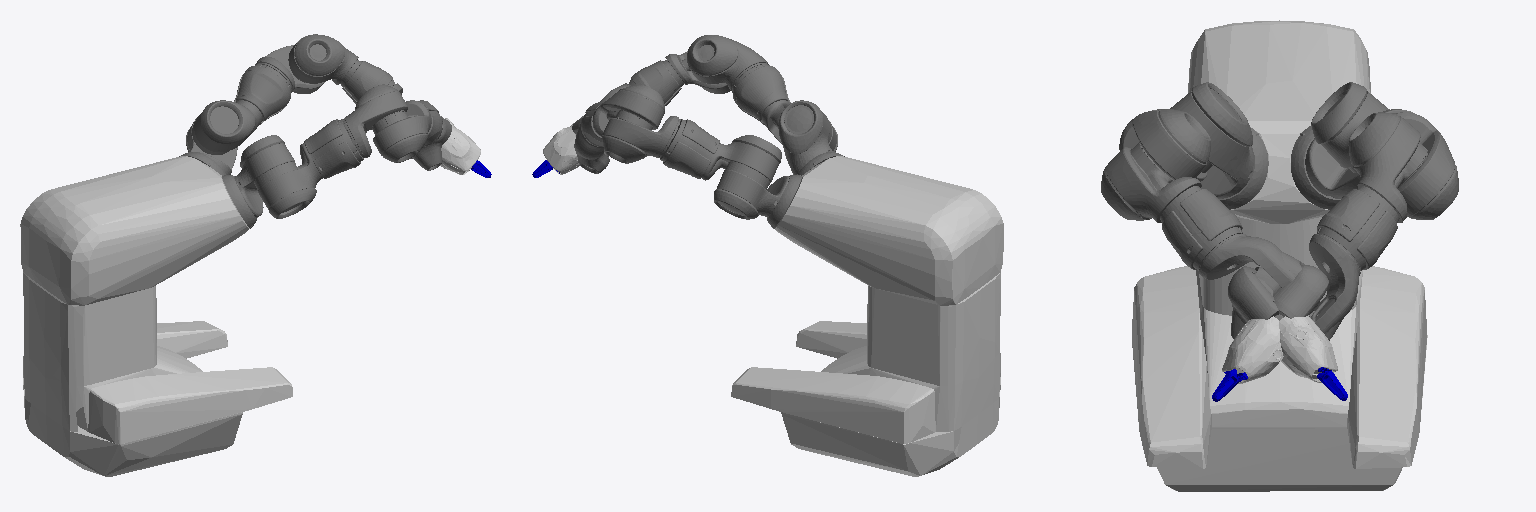
--- Render facts (derived) ---
3 views of the same robot in one strip: view 1: azimuth 30°, elevation 25°; view 2: azimuth 150°, elevation 25°; view 3: azimuth 270°, elevation 25° (orthographic).
Robot: yumi — 25 links, 24 joints (14 revolute, 4 prismatic, 6 fixed); root link yumi_base_link; default pose: all joints at 0.
Visible links, largest first — view 1: yumi_body, yumi_link_2_r, yumi_link_2_l, yumi_link_4_l, yumi_link_4_r, yumi_link_1_r, yumi_link_3_r, gripper_l_base, yumi_link_3_l, yumi_link_1_l, yumi_link_6_r; view 2: yumi_body, yumi_link_2_l, yumi_link_1_l, yumi_link_1_r, yumi_link_2_r, yumi_link_4_l, yumi_link_3_r, yumi_link_3_l, yumi_link_4_r, gripper_r_base, yumi_link_5_l; view 3: yumi_body, yumi_link_4_l, yumi_link_4_r, yumi_link_1_r, yumi_link_3_r, yumi_link_3_l, yumi_link_2_l, yumi_link_5_l, yumi_link_1_l, yumi_link_5_r, gripper_r_base, gripper_l_base (+2 smaller).
Boxes of the visible links, x1,y1,x2,y2 form: yumi_body: [20, 156, 292, 476]; yumi_link_2_r: [254, 119, 363, 218]; yumi_link_2_l: [192, 64, 291, 154]; yumi_link_4_l: [288, 34, 394, 103]; yumi_link_4_r: [372, 100, 442, 162]; yumi_link_1_r: [222, 135, 295, 228]; yumi_link_3_r: [343, 84, 407, 157]; gripper_l_base: [440, 127, 480, 174]; yumi_link_3_l: [255, 45, 325, 93]; yumi_link_1_l: [179, 118, 237, 175]; yumi_link_6_r: [412, 118, 451, 170]; yumi_body: [731, 156, 1003, 476]; yumi_link_2_l: [660, 119, 781, 189]; yumi_link_1_l: [714, 170, 801, 228]; yumi_link_1_r: [778, 100, 844, 175]; yumi_link_2_r: [733, 64, 837, 151]; yumi_link_4_l: [581, 85, 664, 146]; yumi_link_3_r: [687, 35, 768, 92]; yumi_link_3_l: [602, 116, 680, 163]; yumi_link_4_r: [629, 51, 730, 105]; gripper_r_base: [543, 126, 579, 174]; yumi_link_5_l: [574, 124, 609, 173]; yumi_body: [1132, 20, 1427, 491]; yumi_link_4_l: [1317, 112, 1427, 270]; yumi_link_4_r: [1101, 142, 1242, 270]; yumi_link_1_r: [1170, 82, 1268, 209]; yumi_link_3_r: [1119, 109, 1210, 179]; yumi_link_3_l: [1396, 113, 1458, 219]; yumi_link_2_l: [1311, 82, 1414, 172]; yumi_link_5_l: [1309, 234, 1360, 340]; yumi_link_1_l: [1291, 126, 1360, 209]; yumi_link_5_r: [1199, 234, 1304, 287]; gripper_r_base: [1279, 315, 1337, 382]; gripper_l_base: [1222, 316, 1283, 383].
Size in the robot's own frame: 1.01 by 0.4824 by 0.7319 metres.
21 mesh visuals loaded from 10 distinct referenced files (10 binary STL).

The robot description file, URDF, robot "yumi":
<?xml version="1.0" ?>
<!-- =================================================================================== -->
<!-- |    This document was autogenerated by xacro from yumi.urdf.xacro                | -->
<!-- |    EDITING THIS FILE BY HAND IS NOT RECOMMENDED                                 | -->
<!-- =================================================================================== -->
<robot name="yumi" 
  xmlns:xacro="http://www.ros.org/wiki/xacro">
  <material name="Black">
    <color rgba="0.0 0.0 0.0 1.0"/>
  </material>
  <material name="Blue">
    <color rgba="0.0 0.0 0.8 1.0"/>
  </material>
  <material name="Green">
    <color rgba="0.0 0.8 0.0 1.0"/>
  </material>
  <material name="Grey">
    <color rgba="0.5 0.5 0.5 1.0"/>
  </material>
  <material name="Light_Grey">
    <color rgba="0.8 0.8 0.8 1.0"/>
  </material>
  <material name="Ivory">
    <color rgba="1.0 1.0 0.94 1.0"/>
  </material>
  <material name="Orange">
    <color rgba="1.0 0.423529411765 0.0392156862745 1.0"/>
  </material>
  <material name="Brown">
    <color rgba="0.870588235294 0.811764705882 0.764705882353 1.0"/>
  </material>
  <material name="Red">
    <color rgba="0.8 0.0 0.0 1.0"/>
  </material>
  <material name="White">
    <color rgba="1.0 1.0 1.0 1.0"/>
  </material>
  <gazebo>
    <plugin filename="libgazebo_ros_control.so" name="gazebo_ros_controller">
      <robotNamespace>/yumi</robotNamespace>
    </plugin>
  </gazebo>
  <link name="yumi_base_link"/>
  <joint name="yumi_base_link_to_body" type="fixed">
    <parent link="yumi_base_link"/>
    <child link="yumi_body"/>
    <origin rpy="0 0 0" xyz="0 0 0"/>
  </joint>
  <link name="yumi_body">
    <inertial>
      <origin rpy="0 0 0" xyz="0 0 0"/>
      <mass value="15"/>
      <inertia ixx="0.5" ixy="0" ixz="0" iyy="0.6" iyz="0" izz="0.3"/>
    </inertial>
    <visual>
      <origin rpy="0 0 0" xyz="0 0 0"/>
      <geometry>
        <mesh filename="package://yumi_description/meshes/body.stl"/>
      </geometry>
      <material name="Light_Grey"/>
    </visual>
    <collision>
      <origin rpy="0 0 0" xyz="0 0 0"/>
      <geometry>
        <mesh filename="package://yumi_description/meshes/coarse/body.stl"/>
      </geometry>
      <material name="Light_Grey"/>
    </collision>
  </link>

  <!-- zivid optical frame 
  origin is found by base-eye calibration-->
  <joint name="zivid_optical_joint" type="fixed">
    <parent link="yumi_base_link"/>
    <child link="zivid_optical_frame"/>
    <origin rpy="-2.8649353 -0.1455238 -1.6099504" xyz="0.18957 0.0639047 0.6879233"/>
  </joint>
  <link name="zivid_optical_frame">
  </link>

  <!--///////////////////////////////////// RIGHT ARM ////////////////////////////////  -->
  <!-- joint between body and link_1_r -->
  <joint name="yumi_joint_1_r" type="revolute">
    <parent link="yumi_body"/>
    <child link="yumi_link_1_r"/>
    <origin rpy="-0.9795   -0.5682   -2.3155" xyz="0.05355 -0.0725 0.41492"/>
    <axis xyz="0 0 1"/>
    <limit effort="300" lower="-2.9" upper="2.9" velocity="3.14159265359"/>
    <dynamics damping="0.5"/>
  </joint>
  <link name="yumi_link_1_r">
    <inertial>
      <origin rpy="0 0 0" xyz="0 -0.03 0.12"/>
      <mass value="1.2"/>
      <inertia ixx="0.1" ixy="0" ixz="0" iyy="0.1" iyz="0" izz="0.1"/>
    </inertial>
    <visual>
      <origin rpy="0 0 0" xyz="0 0 0"/>
      <geometry>
        <mesh filename="package://yumi_description/meshes/link_1.stl"/>
      </geometry>
      <material name="Grey"/>
    </visual>
    <collision>
      <origin rpy="0 0 0" xyz="0 0 0"/>
      <geometry>
        <mesh filename="package://yumi_description/meshes/coarse/link_1.stl"/>
      </geometry>
      <material name="Grey"/>
    </collision>
  </link>
  <!-- joint between link_1_r and link_2_r -->
  <joint name="yumi_joint_2_r" type="revolute">
    <parent link="yumi_link_1_r"/>
    <child link="yumi_link_2_r"/>
    <origin rpy="1.57079632679 0.0 0.0" xyz="0.03 0.0 0.1"/>
    <axis xyz="0 0 1"/>
    <limit effort="300" lower="-2.4" upper="0.7" velocity="3.14159265359"/>
    <dynamics damping="0.5"/>
  </joint>
  <link name="yumi_link_2_r">
    <inertial>
      <origin rpy="0 0 0" xyz="0 0 0"/>
      <mass value="1.6"/>
      <inertia ixx="0.1" ixy="0" ixz="0" iyy="0.1" iyz="0" izz="0.1"/>
    </inertial>
    <visual>
      <origin rpy="0 0 0" xyz="0 0 0"/>
      <geometry>
        <mesh filename="package://yumi_description/meshes/link_2.stl"/>
      </geometry>
      <material name="Grey"/>
    </visual>
    <collision>
      <origin rpy="0 0 0" xyz="0 0 0"/>
      <geometry>
        <mesh filename="package://yumi_description/meshes/coarse/link_2.stl"/>
      </geometry>
      <material name="Grey"/>
    </collision>
  </link>
  <!-- joint between link_2_r and link_3_r -->
  <joint name="yumi_joint_7_r" type="revolute">
    <parent link="yumi_link_2_r"/>
    <child link="yumi_link_3_r"/>
    <origin rpy="-1.57079632679 0.0 0.0" xyz="-0.03 0.17283 0.0"/>
    <axis xyz="0 0 1"/>
    <limit effort="300" lower="-2.9" upper="2.9" velocity="3.14159265359"/>
    <dynamics damping="0.5"/>
  </joint>
  <link name="yumi_link_3_r">
    <inertial>
      <origin rpy="0 0 0" xyz="0 0 0"/>
      <mass value="0.9"/>
      <inertia ixx="0.1" ixy="0" ixz="0" iyy="0.1" iyz="0" izz="0.1"/>
    </inertial>
    <visual>
      <origin rpy="0 0 0" xyz="0 0 0"/>
      <geometry>
        <mesh filename="package://yumi_description/meshes/link_3.stl"/>
      </geometry>
      <material name="Grey"/>
    </visual>
    <collision>
      <origin rpy="0 0 0" xyz="0 0 0"/>
      <geometry>
        <mesh filename="package://yumi_description/meshes/coarse/link_3.stl"/>
      </geometry>
      <material name="Grey"/>
    </collision>
  </link>
  <!-- joint between link_3_r and link_4_r -->
  <joint name="yumi_joint_3_r" type="revolute">
    <parent link="yumi_link_3_r"/>
    <child link="yumi_link_4_r"/>
    <origin rpy="1.57079632679 -1.57079632679 0.0" xyz="-0.04188 0.0 0.07873"/>
    <axis xyz="0 0 1"/>
    <limit effort="300" lower="-2.1" upper="1.3" velocity="3.14159265359"/>
    <dynamics damping="0.5"/>
  </joint>
  <link name="yumi_link_4_r">
    <inertial>
      <origin rpy="0 0 0" xyz="0 0 0"/>
      <mass value="1.3"/>
      <inertia ixx="0.1" ixy="0" ixz="0" iyy="0.1" iyz="0" izz="0.1"/>
    </inertial>
    <visual>
      <origin rpy="0 0 0" xyz="0 0 0"/>
      <geometry>
        <mesh filename="package://yumi_description/meshes/link_4.stl"/>
      </geometry>
      <material name="Grey"/>
    </visual>
    <collision>
      <origin rpy="0 0 0" xyz="0 0 0"/>
      <geometry>
        <mesh filename="package://yumi_description/meshes/coarse/link_4.stl"/>
      </geometry>
      <material name="Grey"/>
    </collision>
  </link>
  <!-- joint between link_4_r and link_5_r -->
  <joint name="yumi_joint_4_r" type="revolute">
    <parent link="yumi_link_4_r"/>
    <child link="yumi_link_5_r"/>
    <origin rpy="-1.57079632679 0.0 0.0" xyz="0.0405 0.16461 0.0"/>
    <axis xyz="0 0 1"/>
    <limit effort="300" lower="-5.0" upper="5.0" velocity="6.98131700798"/>
    <dynamics damping="0.5"/>
  </joint>
  <link name="yumi_link_5_r">
    <inertial>
      <origin rpy="0 0 0" xyz="0 0 0"/>
      <mass value="0.5"/>
      <inertia ixx="0.1" ixy="0" ixz="0" iyy="0.1" iyz="0" izz="0.1"/>
    </inertial>
    <visual>
      <origin rpy="0 0 0" xyz="0 0 0"/>
      <geometry>
        <mesh filename="package://yumi_description/meshes/link_5.stl"/>
      </geometry>
      <material name="Grey"/>
    </visual>
    <collision>
      <origin rpy="0 0 0" xyz="0 0 0"/>
      <geometry>
        <mesh filename="package://yumi_description/meshes/coarse/link_5.stl"/>
      </geometry>
      <material name="Grey"/>
    </collision>
  </link>
  <!-- joint between link_5_r and link_6_r -->
  <joint name="yumi_joint_5_r" type="revolute">
    <parent link="yumi_link_5_r"/>
    <child link="yumi_link_6_r"/>
    <origin rpy="1.57079632679 0.0 0.0" xyz="-0.027 0 0.10039"/>
    <axis xyz="0 0 1"/>
    <limit effort="300" lower="-1.5" upper="2.4" velocity="6.98131700798"/>
    <dynamics damping="0.5"/>
  </joint>
  <link name="yumi_link_6_r">
    <inertial>
      <origin rpy="0 0 0" xyz="0 0 0"/>
      <mass value="0.6"/>
      <inertia ixx="0.1" ixy="0" ixz="0" iyy="0.1" iyz="0" izz="0.1"/>
    </inertial>
    <visual>
      <origin rpy="0 0 0" xyz="0 0 0"/>
      <geometry>
        <mesh filename="package://yumi_description/meshes/link_6.stl"/>
      </geometry>
      <material name="Grey"/>
    </visual>
    <collision>
      <origin rpy="0 0 0" xyz="0 0 0"/>
      <geometry>
        <mesh filename="package://yumi_description/meshes/coarse/link_6.stl"/>
      </geometry>
      <material name="Grey"/>
    </collision>
  </link>
  <!-- joint between link_6_r and link_7_r -->
  <joint name="yumi_joint_6_r" type="revolute">
    <parent link="yumi_link_6_r"/>
    <child link="yumi_link_7_r"/>
    <origin rpy="-1.57079632679 0.0 0.0" xyz="0.027 0.029 0.0"/>
    <axis xyz="0 0 1"/>
    <limit effort="300" lower="-3.9" upper="3.9" velocity="6.98131700798"/>
    <dynamics damping="0.5"/>
  </joint>
  <link name="yumi_link_7_r">
    <inertial>
      <origin rpy="0 0 0" xyz="0 0 0"/>
      <mass value="0.24168"/>
      <inertia ixx="0.1" ixy="0" ixz="0" iyy="0.1" iyz="0" izz="0.1"/>
    </inertial>
    <visual>
      <origin rpy="0 0 0" xyz="0 0 0"/>
      <geometry>
        <mesh filename="package://yumi_description/meshes/link_7.stl"/>
      </geometry>
      <material name="Grey"/>
    </visual>
    <collision>
      <origin rpy="0 0 0" xyz="0 0 0"/>
      <geometry>
        <mesh filename="package://yumi_description/meshes/coarse/link_7.stl"/>
      </geometry>
      <material name="Grey"/>
    </collision>
  </link>
  <!--///////////////////////////////////// LEFT ARM ////////////////////////////////  -->
  <!-- joint between body and link_1_l -->
  <joint name="yumi_joint_1_l" type="revolute">
    <parent link="yumi_body"/>
    <child link="yumi_link_1_l"/>
    <origin rpy="0.9781 -0.5716 2.3180" xyz="0.05355 0.07250 0.41492"/>
    <axis xyz="0 0 1"/>
    <limit effort="300" lower="-2.9" upper="2.9" velocity="3.14159265359"/>
    <dynamics damping="0.5"/>
  </joint>
  <link name="yumi_link_1_l">
    <inertial>
      <origin rpy="0 0 0" xyz="0 -0.03 0.12"/>
      <mass value="0.9629"/>
      <inertia ixx="0.1" ixy="0" ixz="0" iyy="0.1" iyz="0" izz="0.1"/>
    </inertial>
    <visual>
      <origin rpy="0 0 0" xyz="0 0 0"/>
      <geometry>
        <mesh filename="package://yumi_description/meshes/link_1.stl"/>
      </geometry>
      <material name="Grey"/>
    </visual>
    <collision>
      <origin rpy="0 0 0" xyz="0 0 0"/>
      <geometry>
        <mesh filename="package://yumi_description/meshes/coarse/link_1.stl"/>
      </geometry>
      <material name="Grey"/>
    </collision>
  </link>
  <!-- joint between link_1_l and link_2_l -->
  <joint name="yumi_joint_2_l" type="revolute">
    <parent link="yumi_link_1_l"/>
    <child link="yumi_link_2_l"/>
    <origin rpy="1.57079632679 0.0 0.0" xyz="0.03 0.0 0.1"/>
    <axis xyz="0 0 1"/>
    <limit effort="300" lower="-2.4" upper="0.7" velocity="3.14159265359"/>
    <dynamics damping="0.5"/>
  </joint>
  <link name="yumi_link_2_l">
    <inertial>
      <origin rpy="0 0 0" xyz="0 0 0"/>
      <mass value="1.4106"/>
      <inertia ixx="0.1" ixy="0" ixz="0" iyy="0.1" iyz="0" izz="0.1"/>
    </inertial>
    <visual>
      <origin rpy="0 0 0" xyz="0 0 0"/>
      <geometry>
        <mesh filename="package://yumi_description/meshes/link_2.stl"/>
      </geometry>
      <material name="Grey"/>
    </visual>
    <collision>
      <origin rpy="0 0 0" xyz="0 0 0"/>
      <geometry>
        <mesh filename="package://yumi_description/meshes/coarse/link_2.stl"/>
      </geometry>
      <material name="Grey"/>
    </collision>
  </link>
  <!-- joint between link_2_l and link_3_l -->
  <joint name="yumi_joint_7_l" type="revolute">
    <parent link="yumi_link_2_l"/>
    <child link="yumi_link_3_l"/>
    <origin rpy="-1.57079632679 0.0 0.0" xyz="-0.03 0.17283 0.0"/>
    <axis xyz="0 0 1"/>
    <limit effort="300" lower="-2.9" upper="2.9" velocity="3.14159265359"/>
    <dynamics damping="0.5"/>
  </joint>
  <link name="yumi_link_3_l">
    <inertial>
      <origin rpy="0 0 0" xyz="0 0 0"/>
      <mass value="0.7108"/>
      <inertia ixx="0.1" ixy="0" ixz="0" iyy="0.1" iyz="0" izz="0.1"/>
    </inertial>
    <visual>
      <origin rpy="0 0 0" xyz="0 0 0"/>
      <geometry>
        <mesh filename="package://yumi_description/meshes/link_3.stl"/>
      </geometry>
      <material name="Grey"/>
    </visual>
    <collision>
      <origin rpy="0 0 0" xyz="0 0 0"/>
      <geometry>
        <mesh filename="package://yumi_description/meshes/coarse/link_3.stl"/>
      </geometry>
      <material name="Grey"/>
    </collision>
  </link>
  <!-- joint between link_3_l and link_4_l -->
  <joint name="yumi_joint_3_l" type="revolute">
    <parent link="yumi_link_3_l"/>
    <child link="yumi_link_4_l"/>
    <origin rpy="1.57079632679 -1.57079632679 0.0" xyz="-0.04188 0.0 0.07873"/>
    <axis xyz="0 0 1"/>
    <limit effort="300" lower="-2.1" upper="1.3" velocity="3.14159265359"/>
    <dynamics damping="0.5"/>
  </joint>
  <link name="yumi_link_4_l">
    <inertial>
      <origin rpy="0 0 0" xyz="0 0 0"/>
      <mass value="1.1808"/>
      <inertia ixx="0.1" ixy="0" ixz="0" iyy="0.1" iyz="0" izz="0.1"/>
    </inertial>
    <visual>
      <origin rpy="0 0 0" xyz="0 0 0"/>
      <geometry>
        <mesh filename="package://yumi_description/meshes/link_4.stl"/>
      </geometry>
      <material name="Grey"/>
    </visual>
    <collision>
      <origin rpy="0 0 0" xyz="0 0 0"/>
      <geometry>
        <mesh filename="package://yumi_description/meshes/coarse/link_4.stl"/>
      </geometry>
      <material name="Grey"/>
    </collision>
  </link>
  <!-- joint between link_4_l and link_5_l -->
  <joint name="yumi_joint_4_l" type="revolute">
    <parent link="yumi_link_4_l"/>
    <child link="yumi_link_5_l"/>
    <origin rpy="-1.57079632679 0.0 0.0" xyz="0.0405 0.16461 0.0"/>
    <axis xyz="0 0 1"/>
    <limit effort="300" lower="-5.0" upper="5.0" velocity="6.98131700798"/>
    <dynamics damping="0.5"/>
  </joint>
  <link name="yumi_link_5_l">
    <inertial>
      <origin rpy="0 0 0" xyz="0 0 0"/>
      <mass value="0.34345"/>
      <inertia ixx="0.1" ixy="0" ixz="0" iyy="0.1" iyz="0" izz="0.1"/>
    </inertial>
    <visual>
      <origin rpy="0 0 0" xyz="0 0 0"/>
      <geometry>
        <mesh filename="package://yumi_description/meshes/link_5.stl"/>
      </geometry>
      <material name="Grey"/>
    </visual>
    <collision>
      <origin rpy="0 0 0" xyz="0 0 0"/>
      <geometry>
        <mesh filename="package://yumi_description/meshes/coarse/link_5.stl"/>
      </geometry>
      <material name="Grey"/>
    </collision>
  </link>
  <!-- joint between link_5_l and link_6_l -->
  <joint name="yumi_joint_5_l" type="revolute">
    <parent link="yumi_link_5_l"/>
    <child link="yumi_link_6_l"/>
    <origin rpy="1.57079632679 0.0 0.0" xyz="-0.027 0 0.10039"/>
    <axis xyz="0 0 1"/>
    <limit effort="300" lower="-1.5" upper="2.4" velocity="6.98131700798"/>
    <dynamics damping="0.5"/>
  </joint>
  <link name="yumi_link_6_l">
    <inertial>
      <origin rpy="0 0 0" xyz="0 0 0"/>
      <mass value="0.46580"/>
      <inertia ixx="0.1" ixy="0" ixz="0" iyy="0.1" iyz="0" izz="0.1"/>
    </inertial>
    <visual>
      <origin rpy="0 0 0" xyz="0 0 0"/>
      <geometry>
        <mesh filename="package://yumi_description/meshes/link_6.stl"/>
      </geometry>
      <material name="Grey"/>
    </visual>
    <collision>
      <origin rpy="0 0 0" xyz="0 0 0"/>
      <geometry>
        <mesh filename="package://yumi_description/meshes/coarse/link_6.stl"/>
      </geometry>
      <material name="Grey"/>
    </collision>
  </link>
  <!-- joint between link_6_l and link_7_l -->
  <joint name="yumi_joint_6_l" type="revolute">
    <parent link="yumi_link_6_l"/>
    <child link="yumi_link_7_l"/>
    <origin rpy="-1.57079632679 0.0 0.0" xyz="0.027 0.029 0.0"/>
    <axis xyz="0 0 1"/>
    <limit effort="300" lower="-3.9" upper="3.9" velocity="6.98131700798"/>
    <dynamics damping="0.5"/>
  </joint>
  <link name="yumi_link_7_l">
    <inertial>
      <origin rpy="0 0 0" xyz="0 0 0"/>
      <mass value="0.03094"/>
      <inertia ixx="0.1" ixy="0" ixz="0" iyy="0.1" iyz="0" izz="0.1"/>
    </inertial>
    <visual>
      <origin rpy="0 0 0" xyz="0 0 0"/>
      <geometry>
        <mesh filename="package://yumi_description/meshes/link_7.stl"/>
      </geometry>
      <material name="Grey"/>
    </visual>
    <collision>
      <origin rpy="0 0 0" xyz="0 0 0"/>
      <geometry>
        <mesh filename="package://yumi_description/meshes/coarse/link_7.stl"/>
      </geometry>
      <material name="Grey"/>
    </collision>
  </link>

  <!-- Gazebo reference frame -->
  <gazebo reference="yumi_body">
    <material>Gazebo/Ivory</material>
    <mu1>0.2</mu1>
    <mu2>0.2</mu2>
  </gazebo>
  <transmission name="yumi_tran_1_r">
    <type>transmission_interface/SimpleTransmission</type>
    <joint name="yumi_joint_1_r">
      <hardwareInterface>hardware_interface/VelocityJointInterface</hardwareInterface>
    </joint>
    <actuator name="yumi_motor_1_r">
      <hardwareInterface>hardware_interface/VelocityJointInterface</hardwareInterface>
      <mechanicalReduction>1</mechanicalReduction>
    </actuator>
  </transmission>
  <transmission name="yumi_tran_2_r">
    <type>transmission_interface/SimpleTransmission</type>
    <joint name="yumi_joint_2_r">
      <hardwareInterface>hardware_interface/VelocityJointInterface</hardwareInterface>
    </joint>
    <actuator name="yumi_motor_2_r">
      <hardwareInterface>hardware_interface/VelocityJointInterface</hardwareInterface>
      <mechanicalReduction>1</mechanicalReduction>
    </actuator>
  </transmission>
  <transmission name="yumi_tran_3_r">
    <type>transmission_interface/SimpleTransmission</type>
    <joint name="yumi_joint_3_r">
      <hardwareInterface>hardware_interface/VelocityJointInterface</hardwareInterface>
    </joint>
    <actuator name="yumi_motor_3_r">
      <hardwareInterface>hardware_interface/VelocityJointInterface</hardwareInterface>
      <mechanicalReduction>1</mechanicalReduction>
    </actuator>
  </transmission>
  <transmission name="yumi_tran_4_r">
    <type>transmission_interface/SimpleTransmission</type>
    <joint name="yumi_joint_4_r">
      <hardwareInterface>hardware_interface/VelocityJointInterface</hardwareInterface>
    </joint>
    <actuator name="yumi_motor_4_r">
      <hardwareInterface>hardware_interface/VelocityJointInterface</hardwareInterface>
      <mechanicalReduction>1</mechanicalReduction>
    </actuator>
  </transmission>
  <transmission name="yumi_tran_5_r">
    <type>transmission_interface/SimpleTransmission</type>
    <joint name="yumi_joint_5_r">
      <hardwareInterface>hardware_interface/VelocityJointInterface</hardwareInterface>
    </joint>
    <actuator name="yumi_motor_5_r">
      <hardwareInterface>hardware_interface/VelocityJointInterface</hardwareInterface>
      <mechanicalReduction>1</mechanicalReduction>
    </actuator>
  </transmission>
  <transmission name="yumi_tran_6_r">
    <type>transmission_interface/SimpleTransmission</type>
    <joint name="yumi_joint_6_r">
      <hardwareInterface>hardware_interface/VelocityJointInterface</hardwareInterface>
    </joint>
    <actuator name="yumi_motor_6_r">
      <hardwareInterface>hardware_interface/VelocityJointInterface</hardwareInterface>
      <mechanicalReduction>1</mechanicalReduction>
    </actuator>
  </transmission>
  <transmission name="yumi_tran_7_r">
    <type>transmission_interface/SimpleTransmission</type>
    <joint name="yumi_joint_7_r">
      <hardwareInterface>hardware_interface/VelocityJointInterface</hardwareInterface>
    </joint>
    <actuator name="yumi_motor_7_r">
      <hardwareInterface>hardware_interface/VelocityJointInterface</hardwareInterface>
      <mechanicalReduction>1</mechanicalReduction>
    </actuator>
  </transmission>
  <transmission name="yumi_tran_1_l">
    <type>transmission_interface/SimpleTransmission</type>
    <joint name="yumi_joint_1_l">
      <hardwareInterface>hardware_interface/VelocityJointInterface</hardwareInterface>
    </joint>
    <actuator name="yumi_motor_1_l">
      <hardwareInterface>hardware_interface/VelocityJointInterface</hardwareInterface>
      <mechanicalReduction>1</mechanicalReduction>
    </actuator>
  </transmission>
  <transmission name="yumi_tran_2_l">
    <type>transmission_interface/SimpleTransmission</type>
    <joint name="yumi_joint_2_l">
      <hardwareInterface>hardware_interface/VelocityJointInterface</hardwareInterface>
    </joint>
    <actuator name="yumi_motor_2_l">
      <hardwareInterface>hardware_interface/VelocityJointInterface</hardwareInterface>
      <mechanicalReduction>1</mechanicalReduction>
    </actuator>
  </transmission>
  <transmission name="yumi_tran_3_l">
    <type>transmission_interface/SimpleTransmission</type>
    <joint name="yumi_joint_3_l">
      <hardwareInterface>hardware_interface/VelocityJointInterface</hardwareInterface>
    </joint>
    <actuator name="yumi_motor_3_l">
      <hardwareInterface>hardware_interface/VelocityJointInterface</hardwareInterface>
      <mechanicalReduction>1</mechanicalReduction>
    </actuator>
  </transmission>
  <transmission name="yumi_tran_4_l">
    <type>transmission_interface/SimpleTransmission</type>
    <joint name="yumi_joint_4_l">
      <hardwareInterface>hardware_interface/VelocityJointInterface</hardwareInterface>
    </joint>
    <actuator name="yumi_motor_4_l">
      <hardwareInterface>hardware_interface/VelocityJointInterface</hardwareInterface>
      <mechanicalReduction>1</mechanicalReduction>
    </actuator>
  </transmission>
  <transmission name="yumi_tran_5_l">
    <type>transmission_interface/SimpleTransmission</type>
    <joint name="yumi_joint_5_l">
      <hardwareInterface>hardware_interface/VelocityJointInterface</hardwareInterface>
    </joint>
    <actuator name="yumi_motor_5_l">
      <hardwareInterface>hardware_interface/VelocityJointInterface</hardwareInterface>
      <mechanicalReduction>1</mechanicalReduction>
    </actuator>
  </transmission>
  <transmission name="yumi_tran_6_l">
    <type>transmission_interface/SimpleTransmission</type>
    <joint name="yumi_joint_6_l">
      <hardwareInterface>hardware_interface/VelocityJointInterface</hardwareInterface>
    </joint>
    <actuator name="yumi_motor_6_l">
      <hardwareInterface>hardware_interface/VelocityJointInterface</hardwareInterface>
      <mechanicalReduction>1</mechanicalReduction>
    </actuator>
  </transmission>
  <transmission name="yumi_tran_7_l">
    <type>transmission_interface/SimpleTransmission</type>
    <joint name="yumi_joint_7_l">
      <hardwareInterface>hardware_interface/VelocityJointInterface</hardwareInterface>
    </joint>
    <actuator name="yumi_motor_7_l">
      <hardwareInterface>hardware_interface/VelocityJointInterface</hardwareInterface>
      <mechanicalReduction>1</mechanicalReduction>
    </actuator>
  </transmission>
  <!--joint between {parent} and base-->
  <joint name="yumi_link_7_r_joint" type="fixed">
    <origin rpy="0 0 3.14159265359" xyz="0 0 0.007"/>
    <parent link="yumi_link_7_r"/>
    <child link="gripper_r_base"/>
  </joint>
  <link name="gripper_r_base">
    <inertial>
      <origin rpy="0 0 0" xyz="0 0 0"/>
      <mass value="0.2"/>
      <inertia ixx="0.0001" ixy="0" ixz="0" iyy="0.0001" iyz="0" izz="0.0001"/>
    </inertial>
    <visual>
      <origin rpy="0 0 0" xyz="0 0 0"/>
      <geometry>
        <mesh filename="package://yumi_description/meshes/gripper/base.stl"/>
      </geometry>
      <material name="Light_Grey"/>
    </visual>
    <collision>
      <origin rpy="0 0 0" xyz="0 0 0"/>
      <geometry>
        <mesh filename="package://yumi_description/meshes/gripper/coarse/base.stl"/>
      </geometry>
      <material name="Light_Grey"/>
    </collision>
  </link>
  <!-- joint between base and right finger -->
  <joint name="gripper_r_joint" type="prismatic">
    <parent link="gripper_r_base"/>
    <child link="gripper_r_finger_r"/>
    <origin rpy="0 0 0" xyz="0 -0.0065 0.0837"/>
    <axis xyz="-1 0 0"/>
    <limit effort="20" lower="0" upper="0.025" velocity="2"/>
    <dynamics damping="1.0"/>
  </joint>
  <link name="gripper_r_finger_r">
    <inertial>
      <origin rpy="0 0 0" xyz="0 0 0"/>
      <mass value="0.01"/>
      <inertia ixx="0.000001" ixy="0" ixz="0" iyy="0.000001" iyz="0" izz="0.000001"/>
    </inertial>
    <visual>
      <origin rpy="0 0 0" xyz="0 0 0"/>
      <geometry>
        <mesh filename="package://yumi_description/meshes/gripper/finger.stl"/>
      </geometry>
      <material name="Blue"/>
    </visual>
    <collision>
      <origin rpy="0 0 0" xyz="0 0 0"/>
      <geometry>
        <mesh filename="package://yumi_description/meshes/gripper/coarse/finger.stl"/>
      </geometry>
      <material name="Blue"/>
    </collision>
  </link>
  <!-- joint between base and left finger -->
  <joint name="gripper_r_joint_m" type="prismatic">
    <parent link="gripper_r_base"/>
    <child link="gripper_r_finger_l"/>
    <origin rpy="0 0 3.14159265359" xyz="0 0.0065 0.0837"/>
    <axis xyz="-1 0 0"/>
    <limit effort="20" lower="0" upper="0.025" velocity="2"/>
    <dynamics damping="1.0"/>
    <mimic joint="gripper_r_joint"/>
  </joint>
  <link name="gripper_r_finger_l">
    <inertial>
      <origin rpy="0 0 0" xyz="0 0 0"/>
      <mass value="0.01"/>
      <inertia ixx="0.000001" ixy="0" ixz="0" iyy="0.000001" iyz="0" izz="0.000001"/>
    </inertial>
    <visual>
      <origin rpy="0 0 0" xyz="0 0 0"/>
      <geometry>
        <mesh filename="package://yumi_description/meshes/gripper/finger.stl"/>
      </geometry>
      <material name="Blue"/>
    </visual>
    <collision>
      <origin rpy="0 0 0" xyz="0 0 0"/>
      <geometry>
        <mesh filename="package://yumi_description/meshes/gripper/coarse/finger.stl"/>
      </geometry>
      <material name="Blue"/>
    </collision>
  </link>
  <!-- Plugin for the mimic o/c joint - AFAIK, that shouldn't be necessary any more starting with Gazebo 3.0 -->
  <gazebo>
    <plugin filename="libgazebo_mimic_plugin.so" name="mimic_plugin">
      <joint>gripper_r_joint</joint>
      <mimicJoint>gripper_r_joint_m</mimicJoint>
      <multiplier>1.0</multiplier>
    </plugin>
  </gazebo>
  <!-- body -->
  <gazebo reference="gripper_r_base">
    <material>Gazebo/Light_Grey</material>
    <mu1>0.2</mu1>
    <mu2>0.2</mu2>
  </gazebo>
  <transmission name="gripper_r_tran">
    <type>transmission_interface/SimpleTransmission</type>
    <joint name="gripper_r_joint">
      <hardwareInterface>hardware_interface/EffortJoinInterface</hardwareInterface>
    </joint>
    <actuator name="gripper_r_motor">
      <hardwareInterface>hardware_interface/EffortJoinInterface</hardwareInterface>
      <mechanicalReduction>1</mechanicalReduction>
    </actuator>
  </transmission>
  <!--joint between {parent} and base-->
  <joint name="yumi_link_7_l_joint" type="fixed">
    <origin rpy="0 0 3.14159265359" xyz="0 0 0.007"/>
    <parent link="yumi_link_7_l"/>
    <child link="gripper_l_base"/>
  </joint>
  <link name="gripper_l_base">
    <inertial>
      <origin rpy="0 0 0" xyz="0 0 0"/>
      <mass value="0.2"/>
      <inertia ixx="0.0001" ixy="0" ixz="0" iyy="0.0001" iyz="0" izz="0.0001"/>
    </inertial>
    <visual>
      <origin rpy="0 0 0" xyz="0 0 0"/>
      <geometry>
        <mesh filename="package://yumi_description/meshes/gripper/base.stl"/>
      </geometry>
      <material name="Light_Grey"/>
    </visual>
    <collision>
      <origin rpy="0 0 0" xyz="0 0 0"/>
      <geometry>
        <mesh filename="package://yumi_description/meshes/gripper/coarse/base.stl"/>
      </geometry>
      <material name="Light_Grey"/>
    </collision>
  </link>
  <!-- joint between base and right finger -->
  <joint name="gripper_l_joint" type="prismatic">
    <parent link="gripper_l_base"/>
    <child link="gripper_l_finger_r"/>
    <origin rpy="0 0 0" xyz="0 -0.0065 0.0837"/>
    <axis xyz="-1 0 0"/>
    <limit effort="20" lower="0" upper="0.025" velocity="2"/>
    <dynamics damping="1.0"/>
  </joint>
  <link name="gripper_l_finger_r">
    <inertial>
      <origin rpy="0 0 0" xyz="0 0 0"/>
      <mass value="0.01"/>
      <inertia ixx="0.000001" ixy="0" ixz="0" iyy="0.000001" iyz="0" izz="0.000001"/>
    </inertial>
    <visual>
      <origin rpy="0 0 0" xyz="0 0 0"/>
      <geometry>
        <mesh filename="package://yumi_description/meshes/gripper/finger.stl"/>
      </geometry>
      <material name="Blue"/>
    </visual>
    <collision>
      <origin rpy="0 0 0" xyz="0 0 0"/>
      <geometry>
        <mesh filename="package://yumi_description/meshes/gripper/coarse/finger.stl"/>
      </geometry>
      <material name="Blue"/>
    </collision>
  </link>
  <!-- joint between base and left finger -->
  <joint name="gripper_l_joint_m" type="prismatic">
    <parent link="gripper_l_base"/>
    <child link="gripper_l_finger_l"/>
    <origin rpy="0 0 3.14159265359" xyz="0 0.0065 0.0837"/>
    <axis xyz="-1 0 0"/>
    <limit effort="20" lower="0" upper="0.025" velocity="2"/>
    <dynamics damping="1.0"/>
    <mimic joint="gripper_l_joint"/>
  </joint>
  <link name="gripper_l_finger_l">
    <inertial>
      <origin rpy="0 0 0" xyz="0 0 0"/>
      <mass value="0.01"/>
      <inertia ixx="0.000001" ixy="0" ixz="0" iyy="0.000001" iyz="0" izz="0.000001"/>
    </inertial>
    <visual>
      <origin rpy="0 0 0" xyz="0 0 0"/>
      <geometry>
        <mesh filename="package://yumi_description/meshes/gripper/finger.stl"/>
      </geometry>
      <material name="Blue"/>
    </visual>
    <collision>
      <origin rpy="0 0 0" xyz="0 0 0"/>
      <geometry>
        <mesh filename="package://yumi_description/meshes/gripper/coarse/finger.stl"/>
      </geometry>
      <material name="Blue"/>
    </collision>
  </link>
  <!-- joint between base and grip center, right hand -->
  <joint name="gripper_r_center_joint" type="fixed">
    <parent link="gripper_r_base"/>
    <child link="gripper_r_center"/>
    <origin rpy="0 0 3.14159265359" xyz="0.0 0.0 0.131"/>
  </joint>
  <link name="gripper_r_center"> </link>
  <!-- Joint between base and grip center, left hand -->
  <joint name="gripper_l_center_joint" type="fixed">
    <parent link="gripper_l_base"/>
    <child link="gripper_l_center"/>
    <origin rpy="0 0 3.14159265359" xyz="0.0 0.0 0.131"/>
  </joint>
  <link name="gripper_l_center"> </link>
  <!-- Plugin for the mimic o/c joint - AFAIK, that shouldn't be necessary any more starting with Gazebo 3.0 -->
  <gazebo>
    <plugin filename="libgazebo_mimic_plugin.so" name="mimic_plugin">
      <joint>gripper_l_joint</joint>
      <mimicJoint>gripper_l_joint_m</mimicJoint>
      <multiplier>1.0</multiplier>
    </plugin>
  </gazebo>
  <!-- body -->
  <gazebo reference="gripper_l_base">
    <material>Gazebo/Light_Grey</material>
    <mu1>0.2</mu1>
    <mu2>0.2</mu2>
  </gazebo>
  <transmission name="gripper_l_tran">
    <type>transmission_interface/SimpleTransmission</type>
    <joint name="gripper_l_joint">
      <hardwareInterface>hardware_interface/EffortJoinInterface</hardwareInterface>
    </joint>
    <actuator name="gripper_l_motor">
      <hardwareInterface>hardware_interface/EffortJoinInterface</hardwareInterface>
      <mechanicalReduction>1</mechanicalReduction>
    </actuator>
  </transmission>
  <!-- Pure YuMi URDF, with no joints connecting it to any other robot or pedestal. Neither accessories. -->
</robot>
